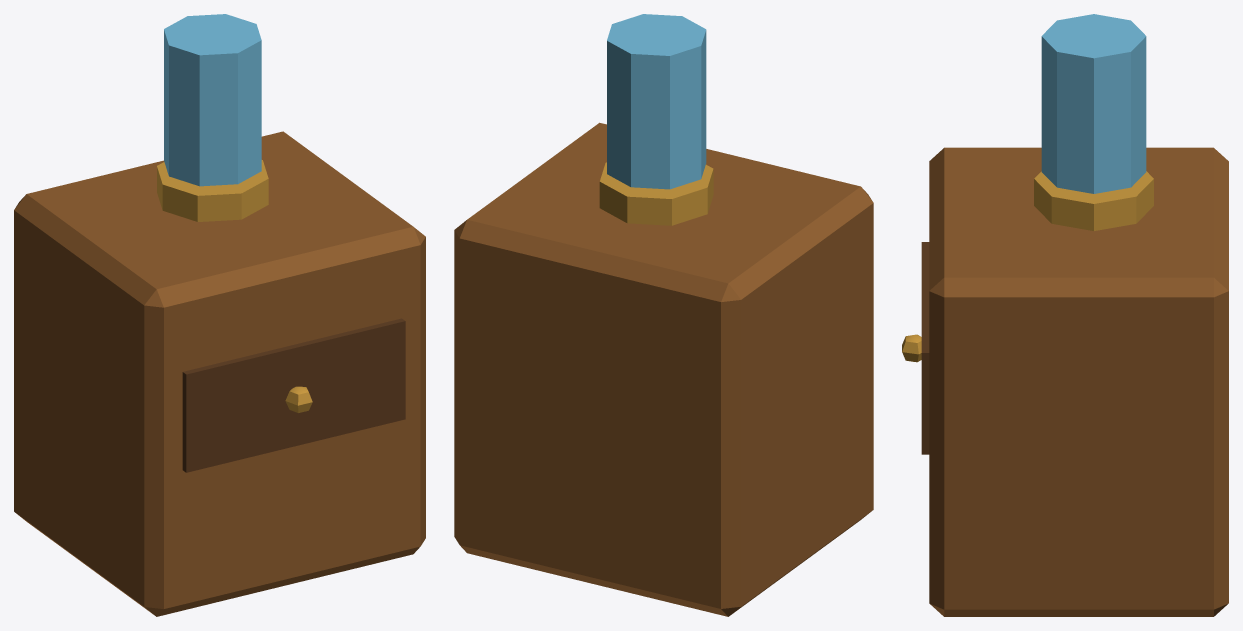
Rendered from PR_Furniture_Komodin.fbx.
3 views of the same model, side by side, from view 1: azimuth 30°, elevation 25°; view 2: azimuth 150°, elevation 25°; view 3: azimuth 270°, elevation 25° (orthographic). The views are drawn at different scales.
Visible parts, largest first — view 1: PR_Furniture_Komodin; view 2: PR_Furniture_Komodin; view 3: PR_Furniture_Komodin.
Boxes of the visible parts, left/top/right/bottom form: PR_Furniture_Komodin: left=14, top=14, right=425, bottom=616; PR_Furniture_Komodin: left=454, top=14, right=873, bottom=616; PR_Furniture_Komodin: left=902, top=14, right=1228, bottom=616.
Size of the model in its own units: 0.45 by 0.76 by 0.4362.
Materials: 1 (1 with a texture image).
